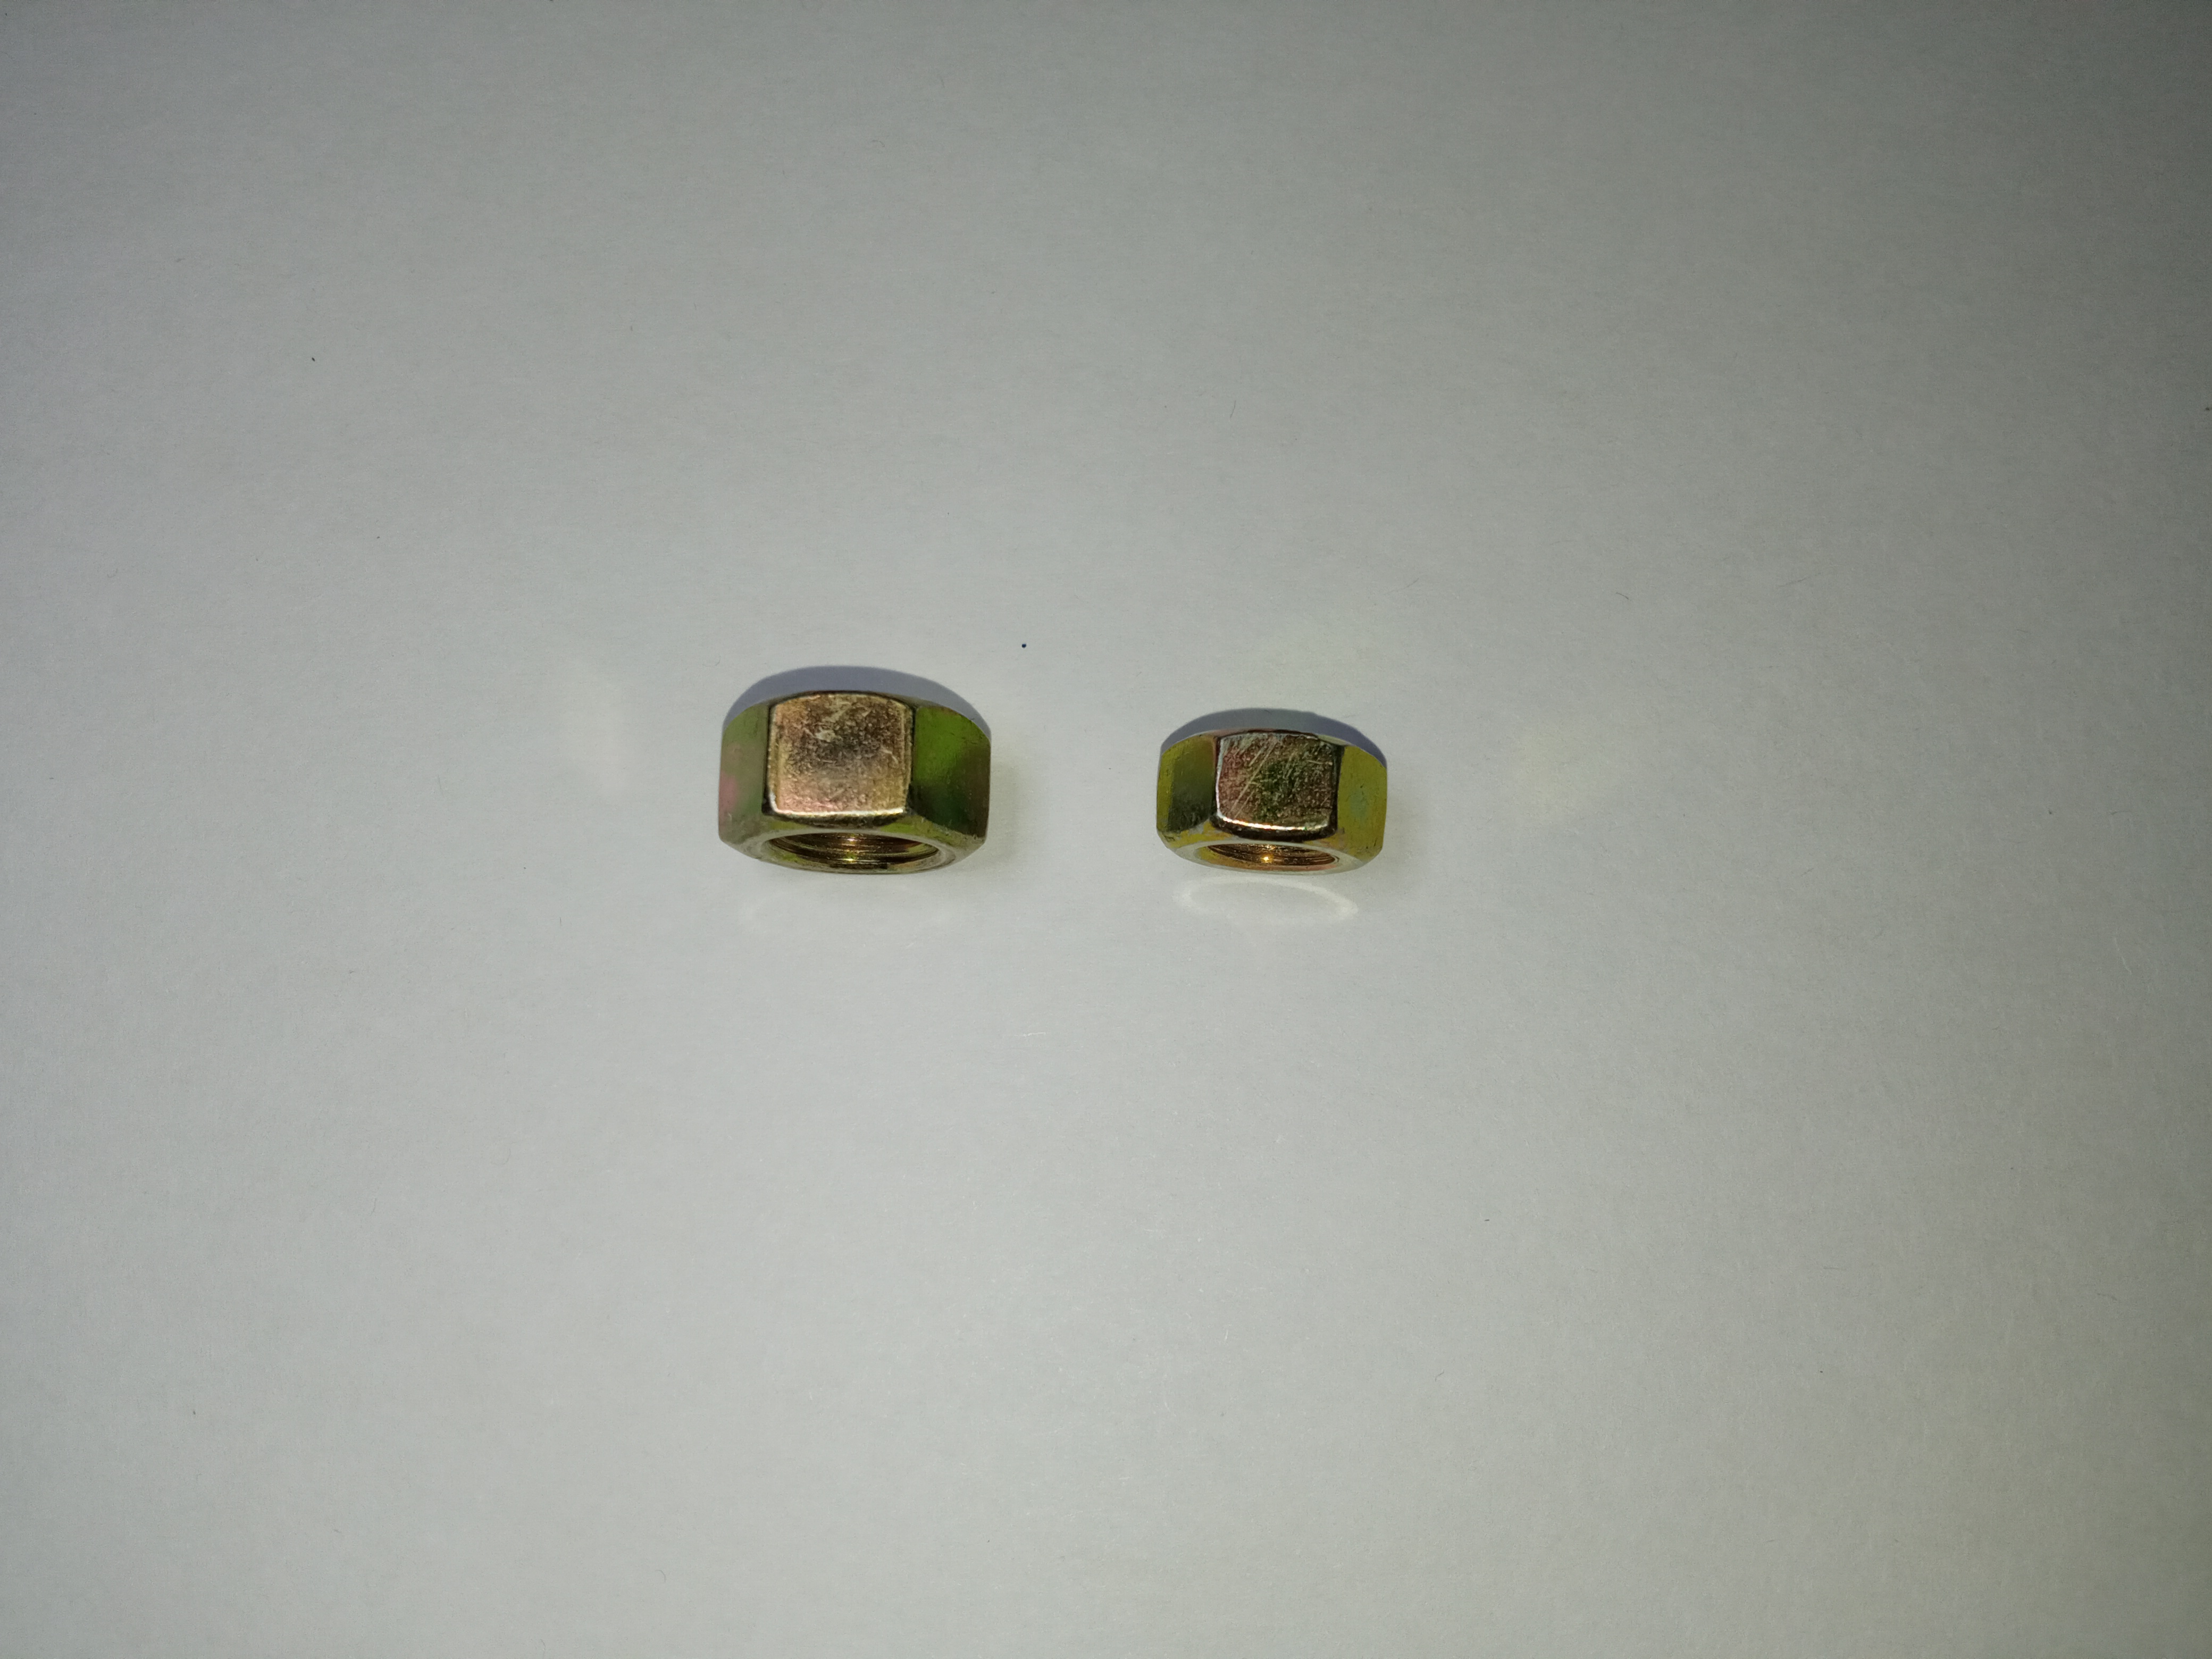m10: (716, 690, 1007, 887)
m8: (1151, 725, 1392, 875)
